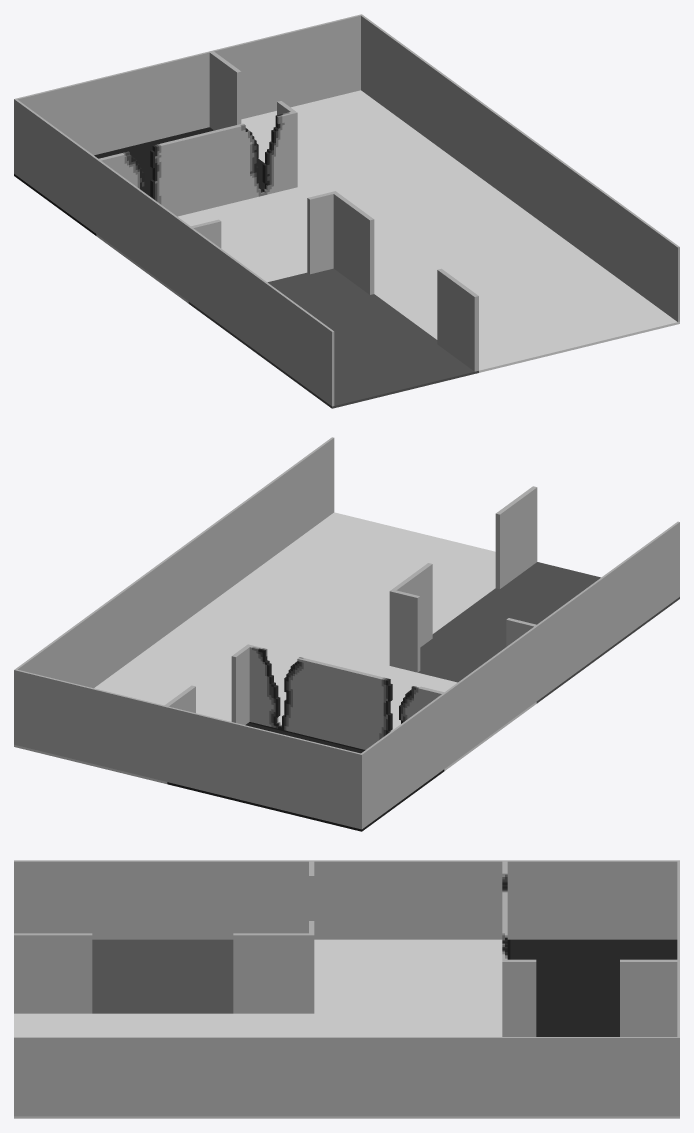
Rendered from Test-salle3.obj.
The picture shows the model from 3 angles, top to bottom: view 1: azimuth 30°, elevation 25°; view 2: azimuth 150°, elevation 25°; view 3: azimuth 270°, elevation 25°; orthographic projection. The views are drawn at different scales.
Bounding box in the file's own units: 16.1 × 3.4 × 25.5.
1 material, 1 textured.
